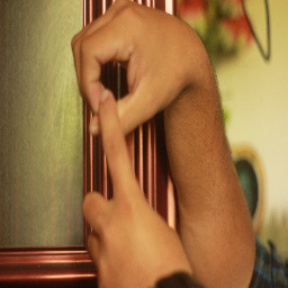Q: (70, 2, 211, 272)
